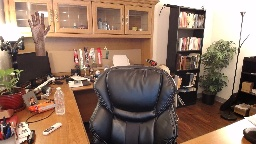Mano_aperta: (25, 10, 51, 40)
